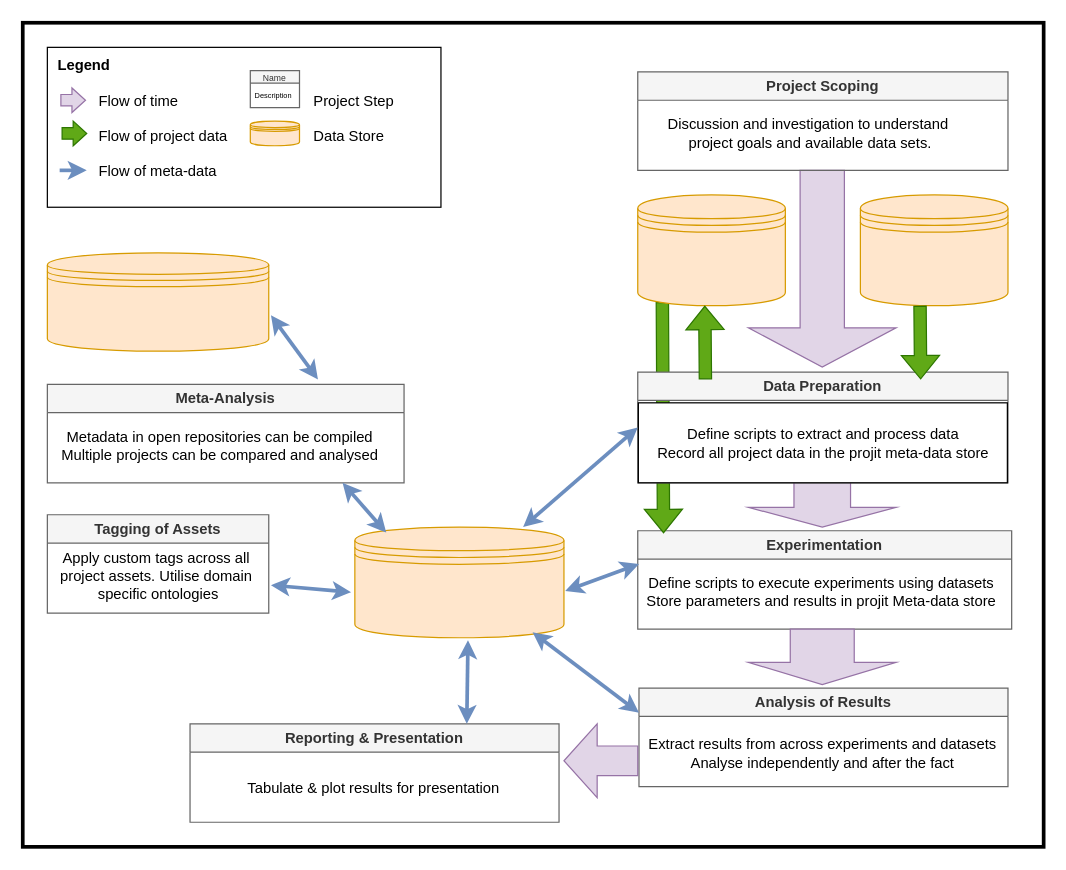
Image size: 1066x870. Some labels were removed from this diagram. Each missing label, with the centre of its shape:
"Data Sources" belongs at point (933, 250).
"Other Project Meta-data" belongs at point (157, 301).
"Processed Data" belongs at point (711, 250).
"Projit Meta-data" belongs at point (459, 582).
